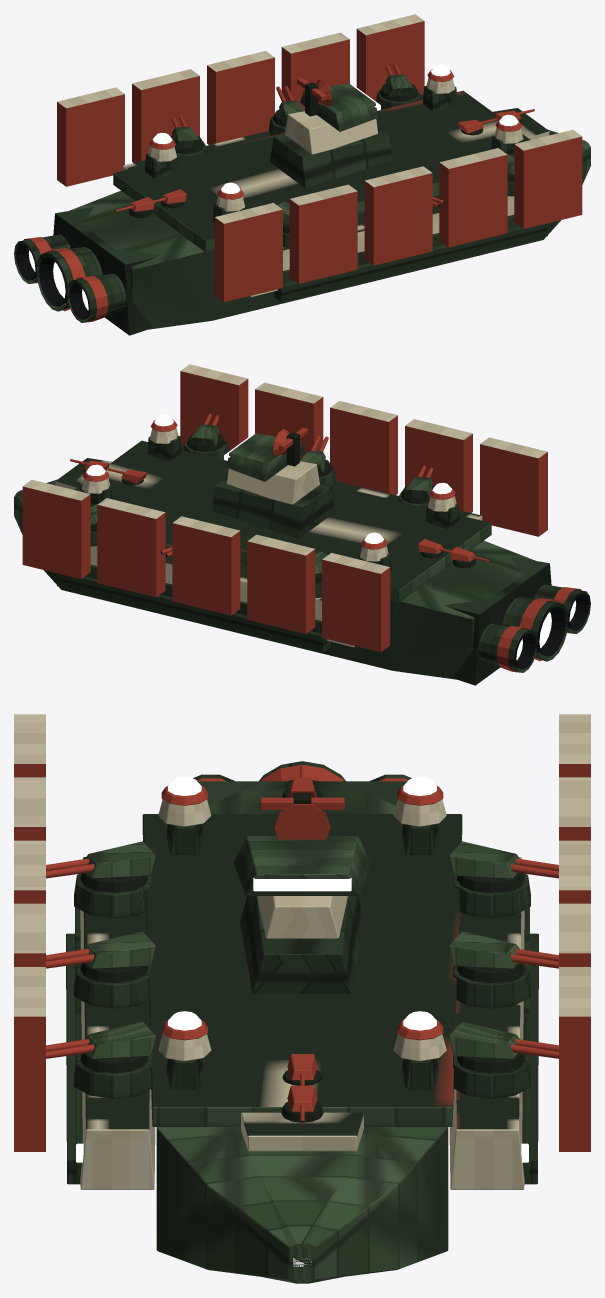
The model's file is cruiser.glb.
3 views of the same model, one above another, from view 1: azimuth 30°, elevation 25°; view 2: azimuth 150°, elevation 25°; view 3: azimuth 270°, elevation 25° (orthographic). The views are drawn at different scales.
Visible parts, largest first — view 1: faction-sarrak_cruiser; view 2: faction-sarrak_cruiser; view 3: faction-sarrak_cruiser.
Boxes of the visible parts, x1,y1,x2,y2 form: faction-sarrak_cruiser: (14,14,590,335); faction-sarrak_cruiser: (14,364,590,685); faction-sarrak_cruiser: (14,714,590,1283).
Bounding box in the file's own units: 42 × 13.19 × 22.71.
Materials: 1 (1 with a texture image).
